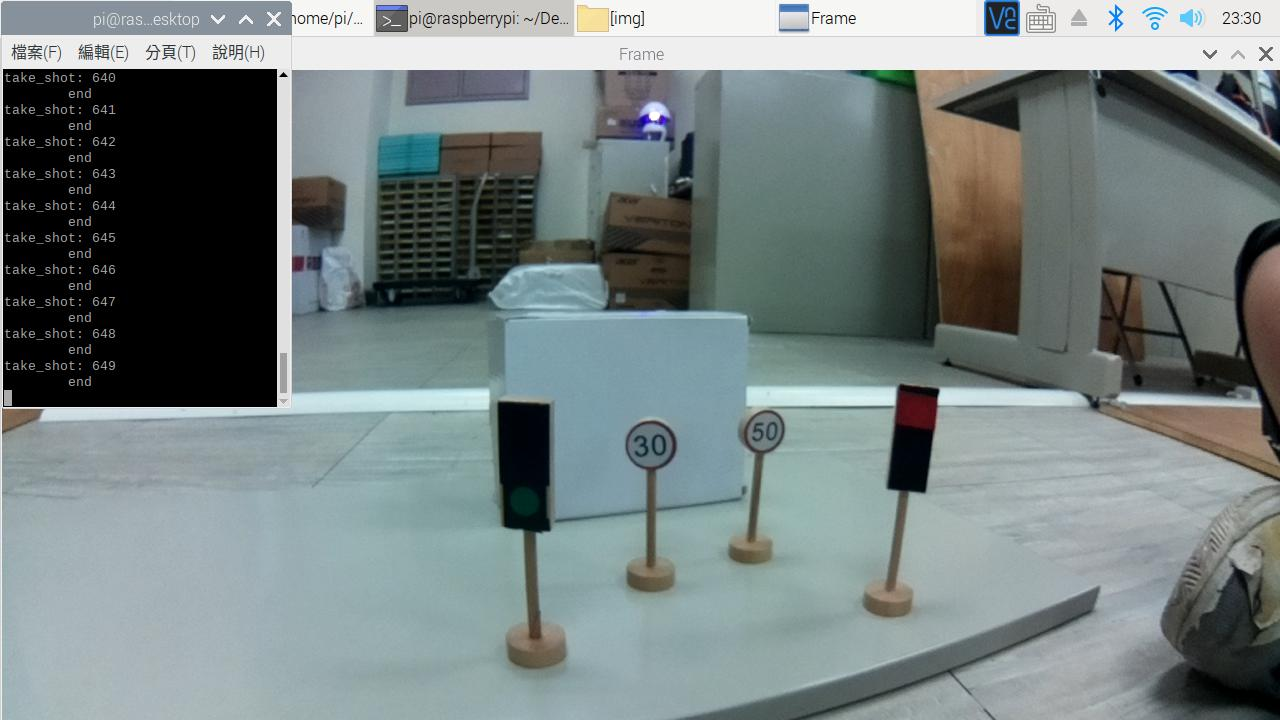Green: (487, 383, 564, 544)
Red: (874, 374, 944, 499)
Speed30: (621, 412, 683, 474)
Speed50: (731, 400, 800, 457)
